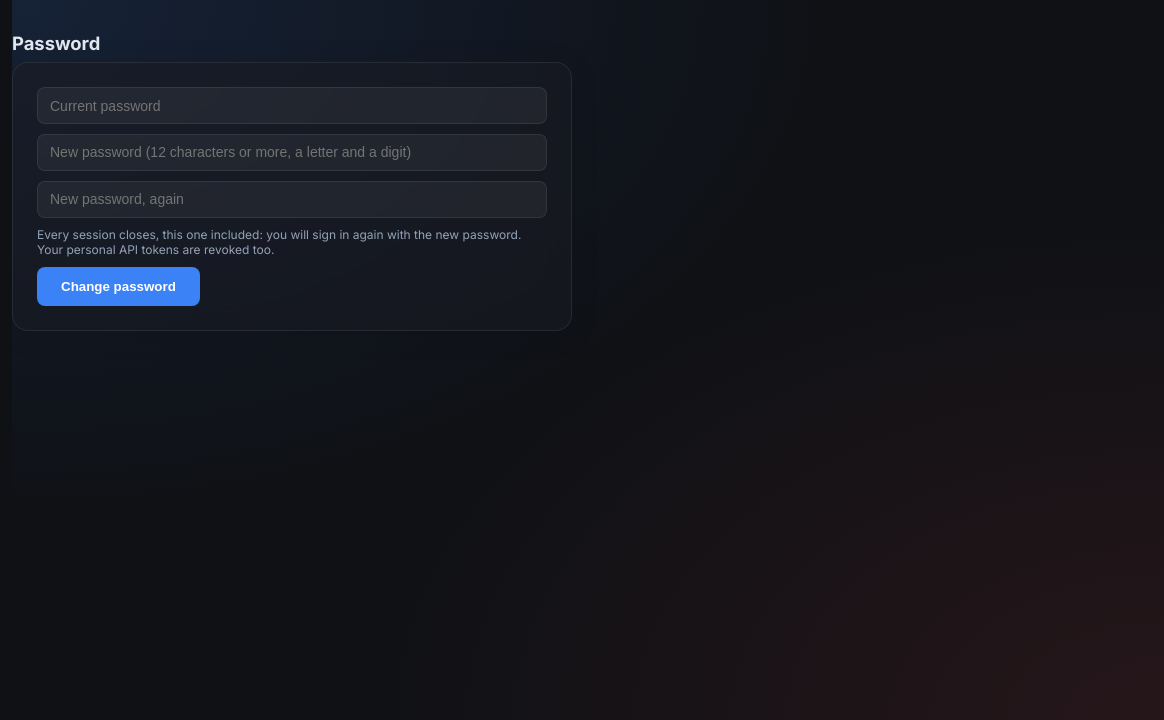
Test: ChangePassword › wants the new password twice, the same
Type "old-passw0rd-123" into the password field labelled "Current password" at (292, 106), box [37,87,547,124]
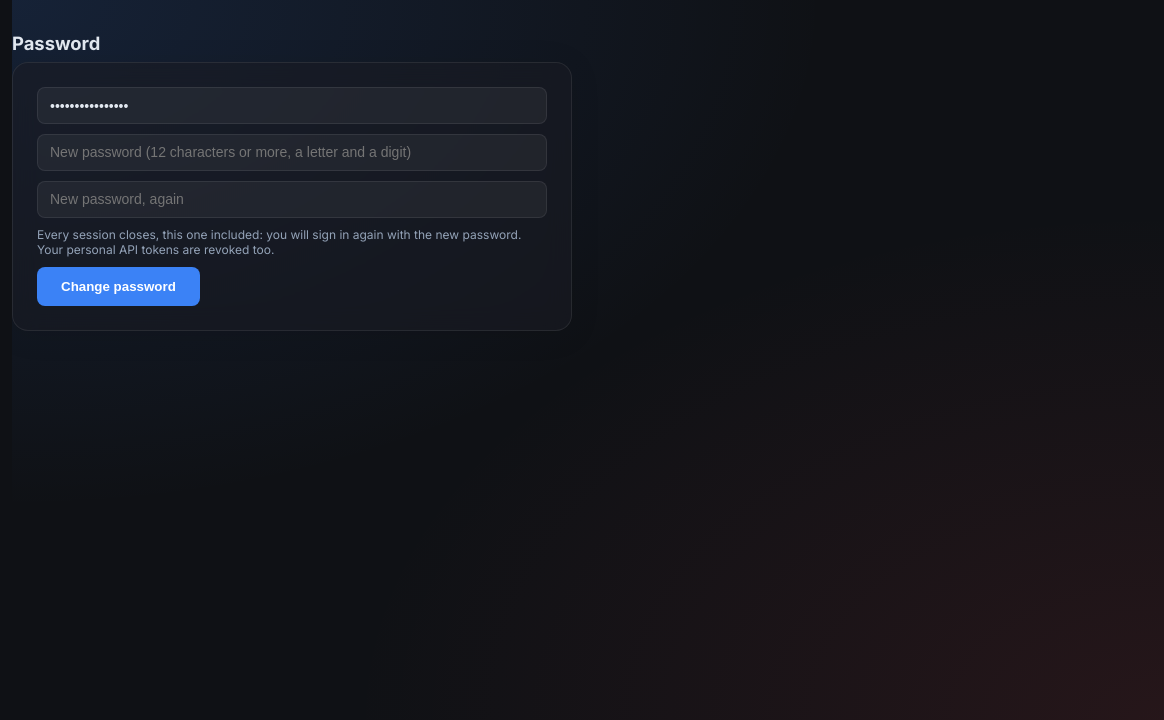
Type "brand-new-passw0rd" into the password field labelled "New password" at (292, 152), box [37,134,547,171]
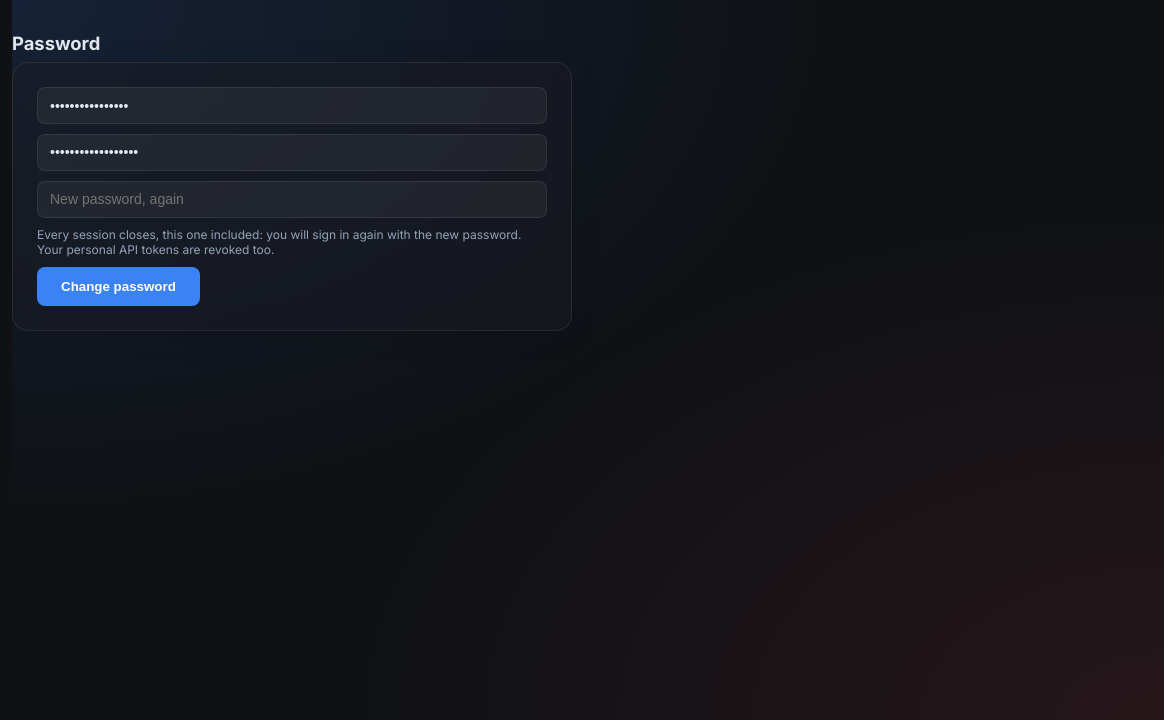
Type "something-else-1" into the password field labelled "New password, again" at (292, 199), box [37,181,547,218]
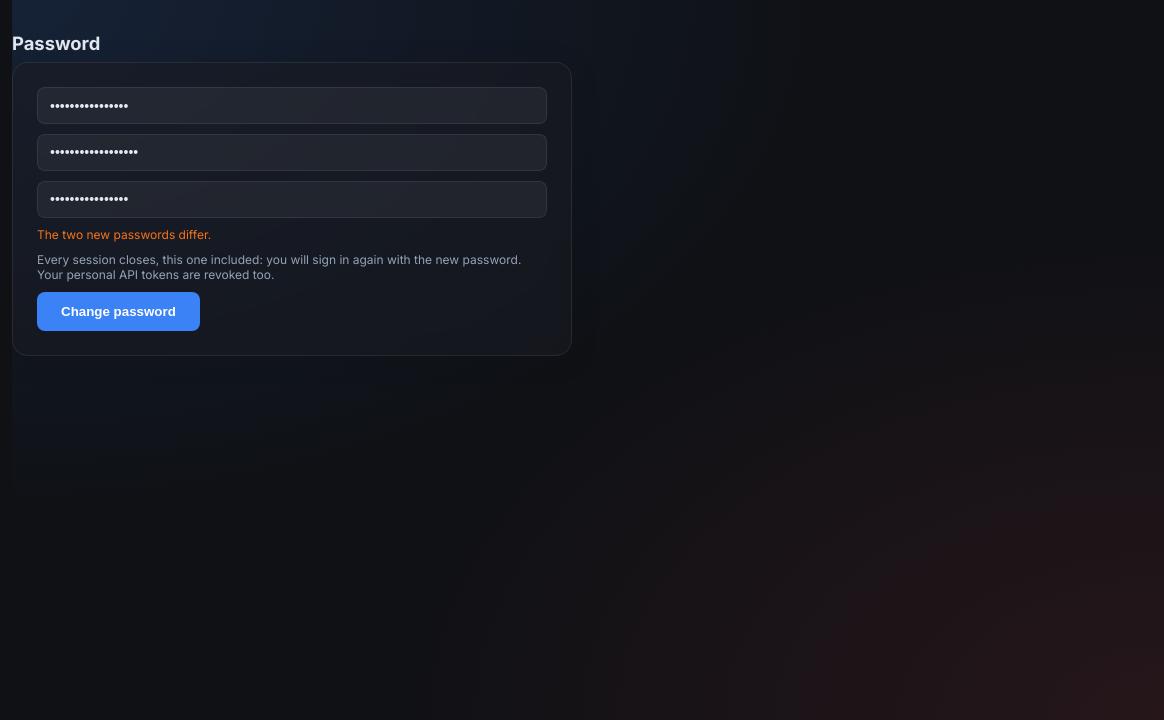
Expected: the button "Change password" is disabled, [37,292,200,330]
Expected: the text "The two new passwords differ." is shown, [37,227,211,242]
